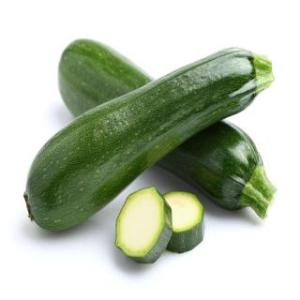zucchini: (33, 53, 288, 162)
